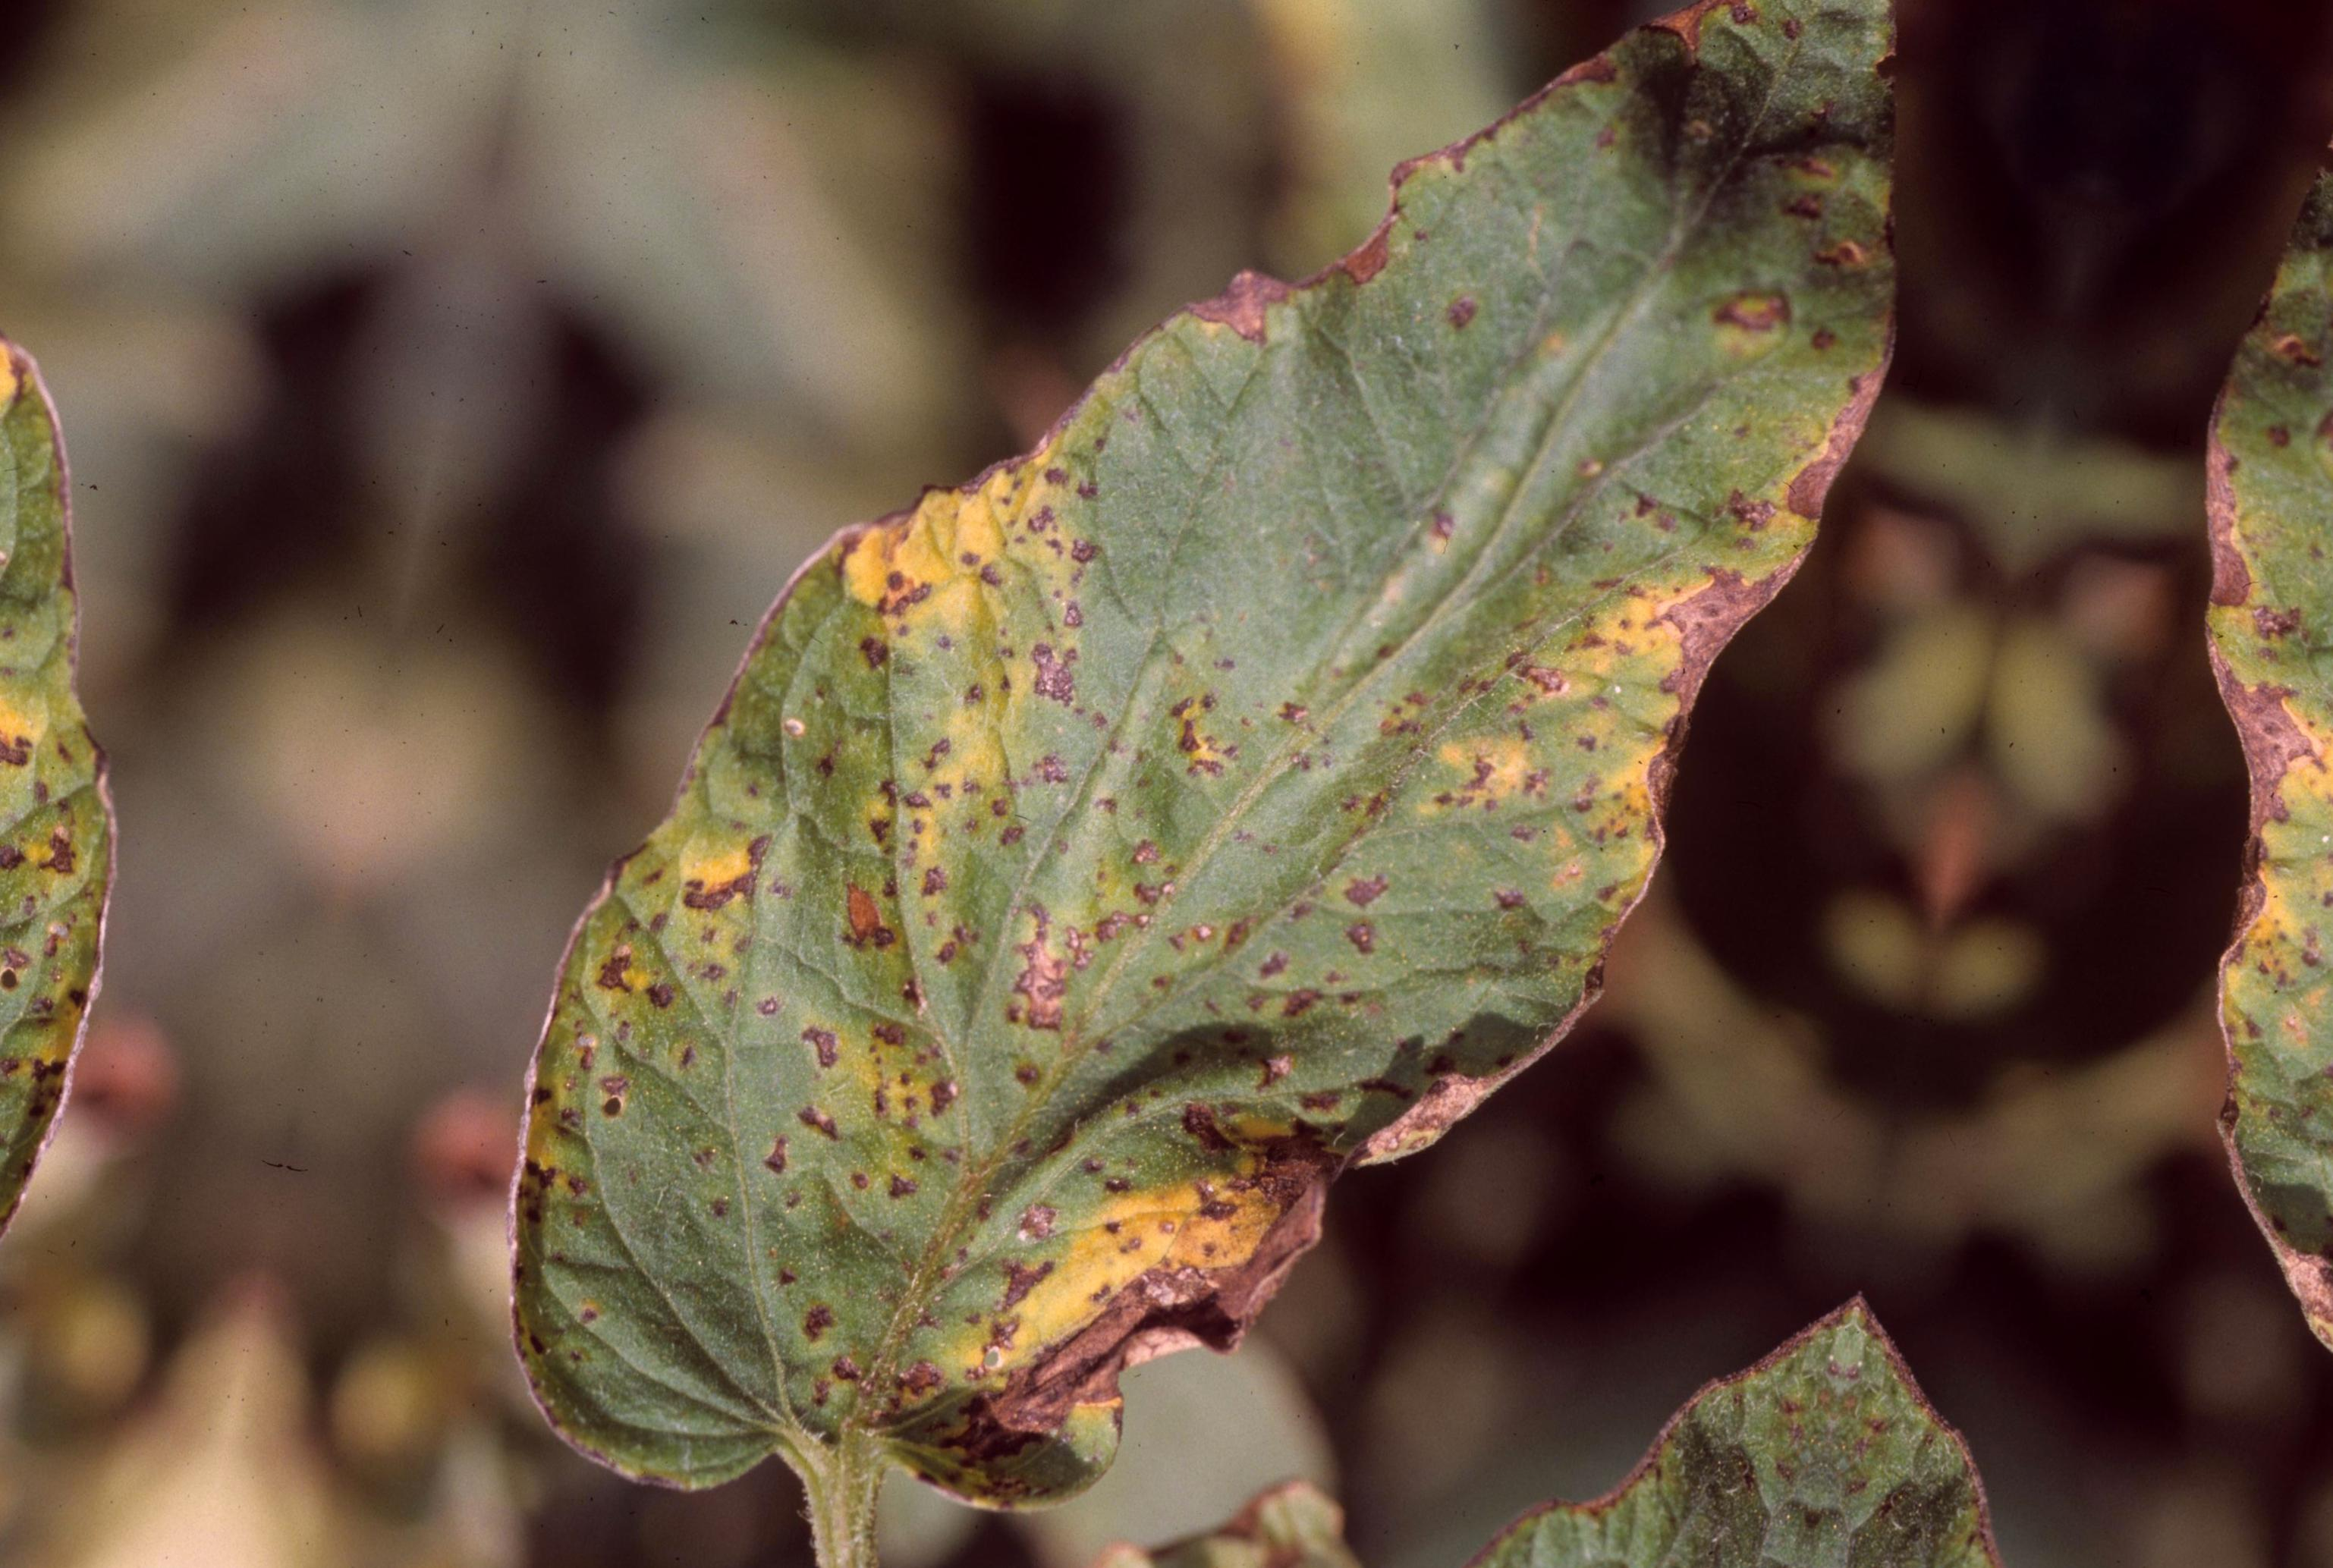Tomato leaf bacterial spot: (406, 0, 2070, 1568)
